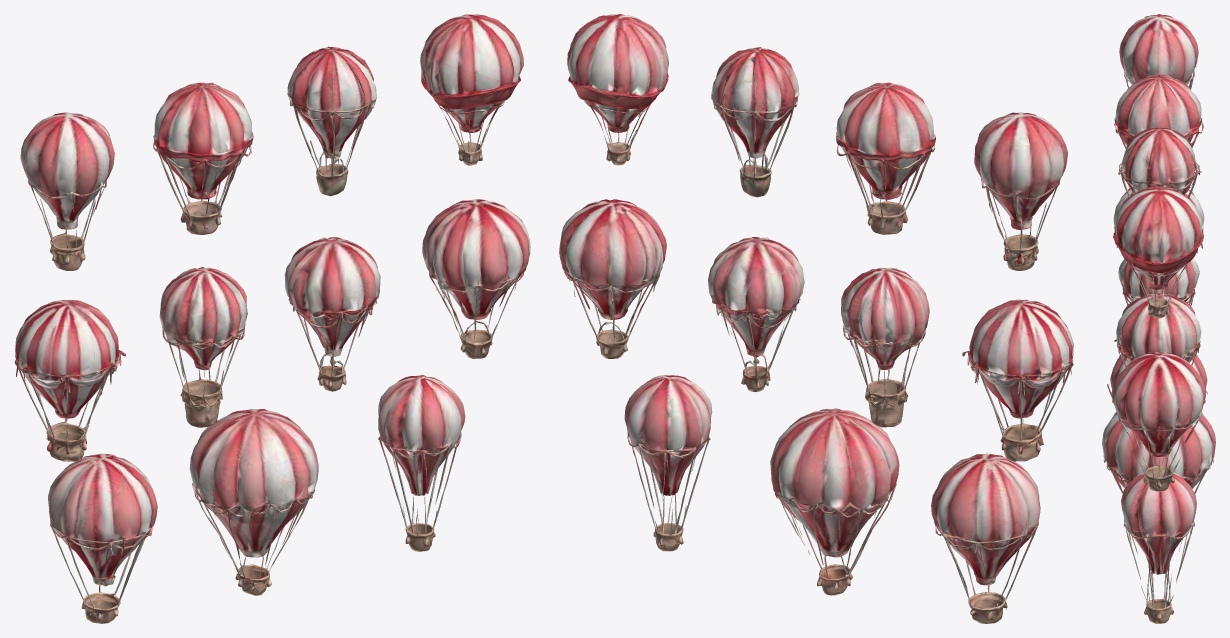
3 views of the same model, side by side, from view 1: azimuth 30°, elevation 25°; view 2: azimuth 150°, elevation 25°; view 3: azimuth 270°, elevation 25° (orthographic). The views are drawn at different scales.
Visible parts, largest first — view 1: Mesh 6, Mesh 3, Mesh 1, Mesh 11, Mesh 4, Mesh 10, Mesh 2, Mesh 7, Mesh 9, Mesh 5, Mesh 8; view 2: Mesh 6, Mesh 3, Mesh 1, Mesh 11, Mesh 4, Mesh 10, Mesh 2, Mesh 9, Mesh 7, Mesh 5, Mesh 8; view 3: Mesh 11, Mesh 10, Mesh 9, Mesh 6, Mesh 4, Mesh 2, Mesh 7, Mesh 8, Mesh 5, Mesh 3, Mesh 1.
Boxes of the visible parts, bbox=[...] form: Mesh 6: bbox=[189, 408, 318, 595]; Mesh 3: bbox=[48, 453, 157, 623]; Mesh 1: bbox=[14, 299, 125, 461]; Mesh 11: bbox=[422, 199, 530, 358]; Mesh 4: bbox=[153, 82, 253, 234]; Mesh 10: bbox=[420, 14, 523, 165]; Mesh 2: bbox=[20, 112, 114, 270]; Mesh 7: bbox=[284, 237, 380, 391]; Mesh 9: bbox=[378, 375, 465, 551]; Mesh 5: bbox=[159, 267, 247, 427]; Mesh 8: bbox=[287, 46, 376, 196]; Mesh 6: bbox=[770, 408, 899, 595]; Mesh 3: bbox=[931, 453, 1040, 623]; Mesh 1: bbox=[962, 299, 1073, 461]; Mesh 11: bbox=[559, 199, 666, 358]; Mesh 4: bbox=[836, 82, 935, 234]; Mesh 10: bbox=[567, 14, 668, 165]; Mesh 2: bbox=[974, 112, 1067, 270]; Mesh 9: bbox=[624, 375, 712, 551]; Mesh 7: bbox=[708, 237, 804, 391]; Mesh 5: bbox=[841, 267, 929, 427]; Mesh 8: bbox=[711, 47, 799, 197]; Mesh 11: bbox=[1111, 351, 1205, 491]; Mesh 10: bbox=[1113, 186, 1203, 318]; Mesh 9: bbox=[1121, 472, 1196, 623]; Mesh 6: bbox=[1102, 412, 1215, 494]; Mesh 4: bbox=[1114, 74, 1203, 148]; Mesh 2: bbox=[1119, 14, 1198, 89]; Mesh 7: bbox=[1114, 293, 1201, 366]; Mesh 8: bbox=[1118, 127, 1201, 198]; Mesh 5: bbox=[1118, 258, 1199, 305]; Mesh 3: bbox=[1107, 353, 1207, 403]; Mesh 1: bbox=[1113, 188, 1204, 253].
Size of the model in its own units: 1.89 by 1.87 by 0.4248.
11 materials, 11 textured.
